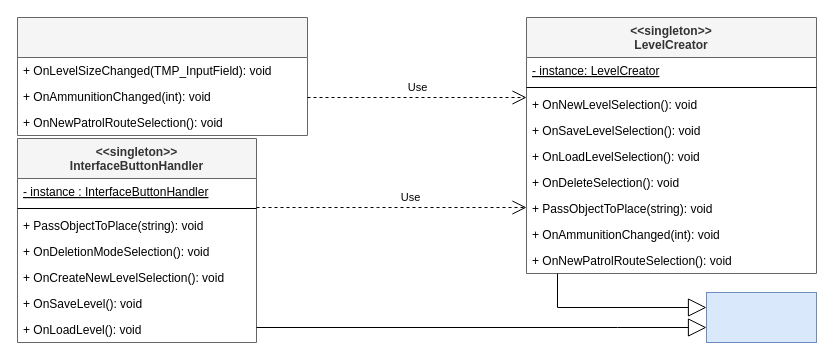
Image size: 834x363. Some labels were removed from this diagram. The shapes that lost their labels are listed below. From the top down, each one's box as (x1, y1, x2, y2) in pixels, then its label:
(16, 16, 308, 136): InterfaceTextFieldHandler
(706, 292, 816, 342): MonoBehaviour
